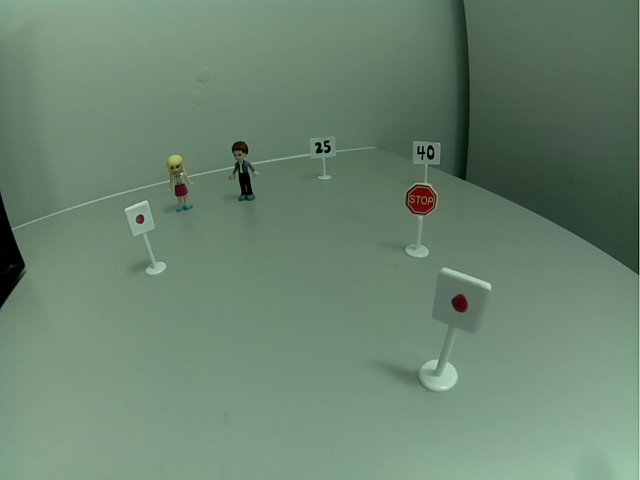people: (226, 137, 262, 203), (163, 151, 197, 215)
red light: (430, 265, 494, 338), (123, 198, 157, 237)
speed 25: (308, 135, 337, 159)
speed 40: (411, 139, 442, 166)
stop: (403, 180, 438, 219)
